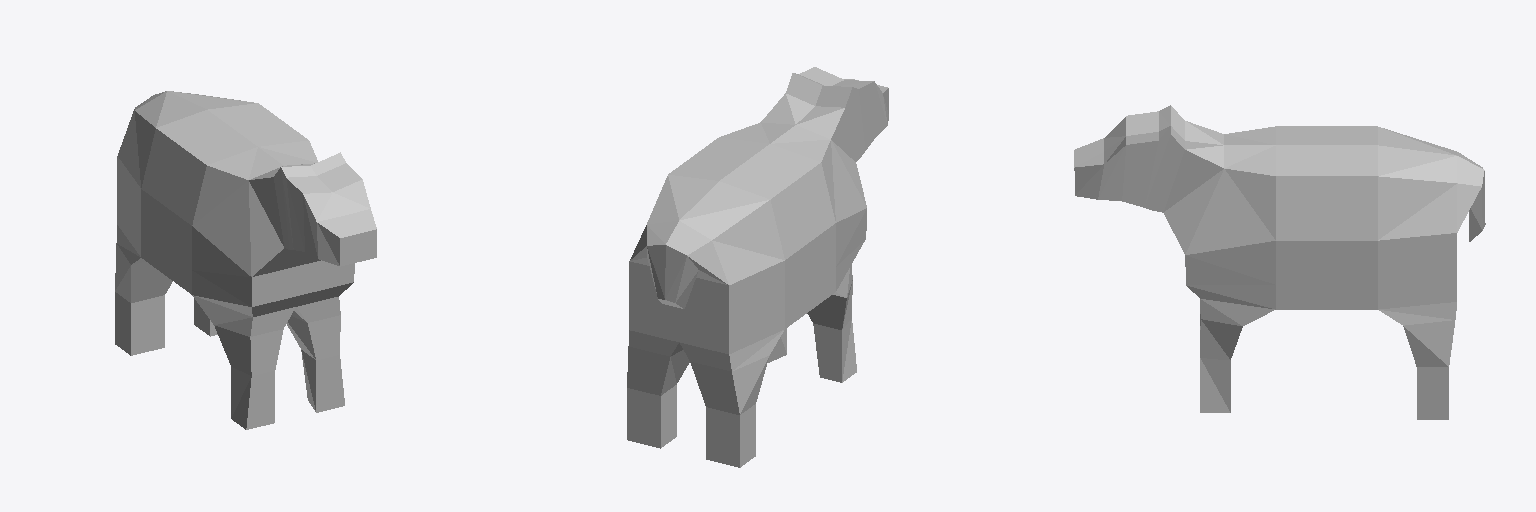
The model's file is cow.obj.
The picture shows the model from 3 angles: view 1: azimuth 30°, elevation 25°; view 2: azimuth 150°, elevation 25°; view 3: azimuth 270°, elevation 25°; orthographic projection.
Bounding box in the file's own units: 1 × 1.97 × 2.7.